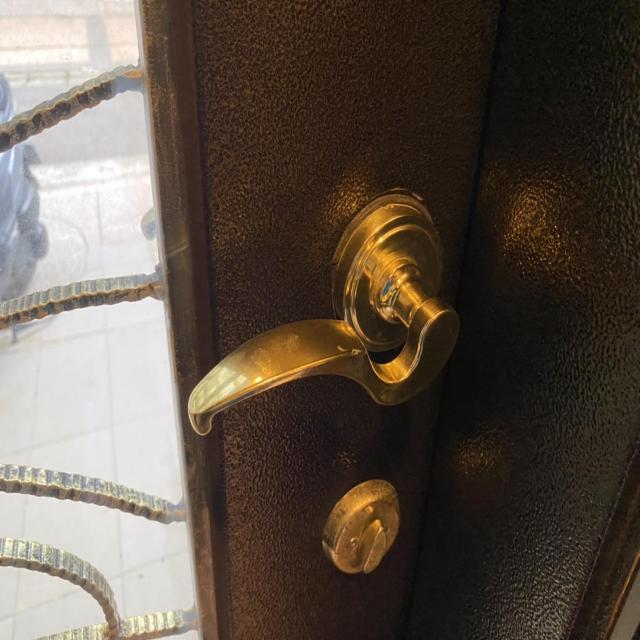doorhandle: (170, 191, 541, 454)
